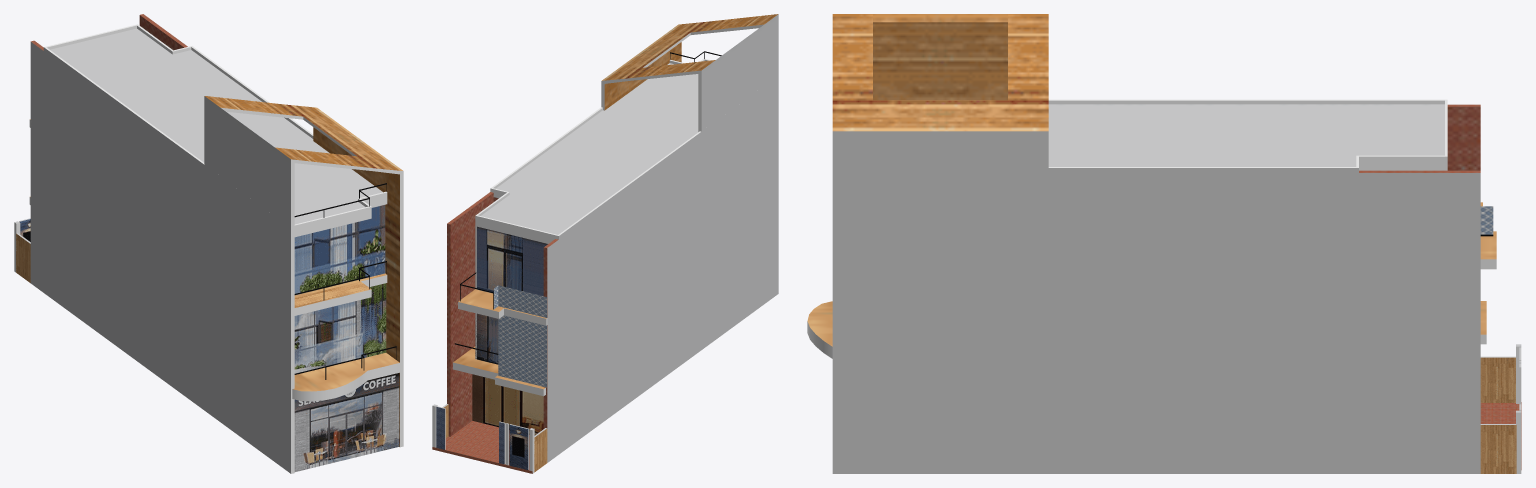
3 views of the same model, side by side, from view 1: azimuth 30°, elevation 25°; view 2: azimuth 150°, elevation 25°; view 3: azimuth 270°, elevation 25° (orthographic). The views are drawn at different scales.
Visible parts, largest first — view 1: 5b1a54b21c21e330bca3ef70; view 2: 5b1a54b21c21e330bca3ef70; view 3: 5b1a54b21c21e330bca3ef70.
Part boxes in pixels (left/top/right/bottom): 5b1a54b21c21e330bca3ef70: left=14, top=14, right=403, bottom=473; 5b1a54b21c21e330bca3ef70: left=432, top=14, right=778, bottom=473; 5b1a54b21c21e330bca3ef70: left=807, top=14, right=1521, bottom=473.
Bounding box in the file's own units: 6 × 16.01 × 26.44.
1 material, 1 textured.
